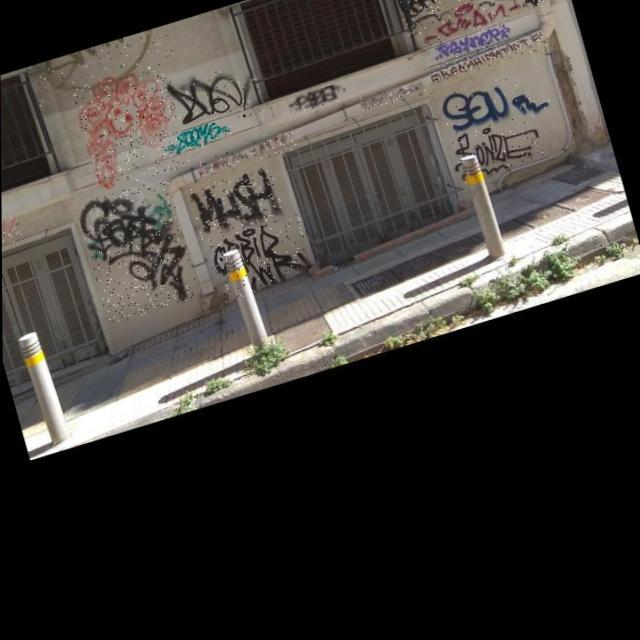-: (74, 176, 200, 326), (70, 60, 192, 194), (25, 26, 175, 108), (206, 214, 315, 304), (436, 68, 552, 146), (384, 0, 556, 48), (166, 57, 267, 138), (446, 116, 546, 189), (188, 166, 284, 242), (428, 35, 547, 86), (195, 132, 299, 180), (418, 0, 524, 47), (428, 23, 514, 68), (164, 120, 232, 158), (358, 81, 428, 115), (286, 84, 347, 118), (1, 213, 22, 254)
